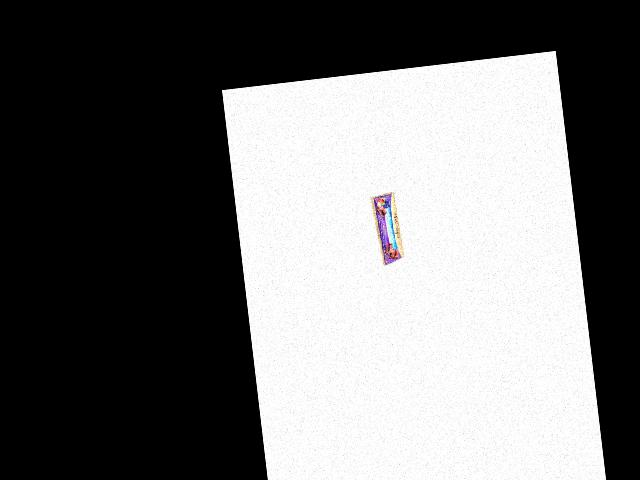chocolate: (369, 191, 402, 269)
